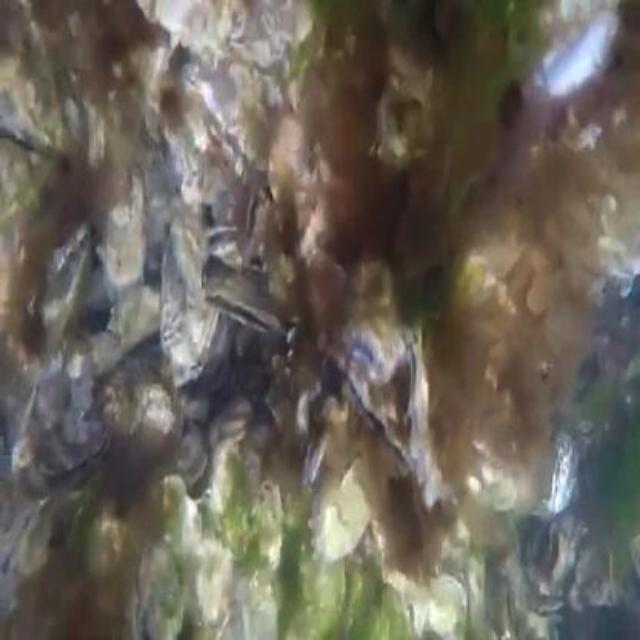Oyster-Closed: (311, 439, 387, 566), (161, 222, 220, 378), (406, 327, 448, 510), (37, 223, 91, 322), (105, 174, 145, 288), (34, 420, 112, 478), (137, 549, 184, 638), (153, 476, 200, 557), (266, 123, 309, 202), (301, 553, 344, 628), (548, 435, 583, 523), (195, 543, 236, 618), (429, 570, 470, 638), (494, 577, 520, 638), (217, 396, 250, 441)
Oyster-Open: (0, 485, 83, 623), (334, 362, 409, 482), (535, 0, 624, 95), (137, 0, 248, 65), (202, 276, 281, 334), (345, 317, 403, 388), (179, 429, 212, 502), (206, 225, 250, 273), (244, 192, 271, 253), (546, 525, 572, 588)
